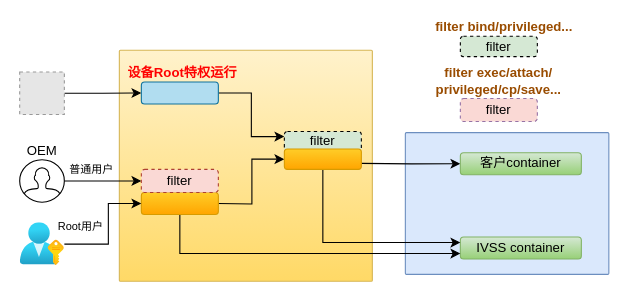
The diagram is 628 pixels wide and 301 high, and some of its shapes have lost their labels. Grey dashed boxes stand in for pictures. Each missing label, with the centre of its shape:
"Contianerd" belongs at pixel 322 158.
"Dockerd" belongs at pixel 179 203.
"Kubelet" belongs at pixel 179 92.
